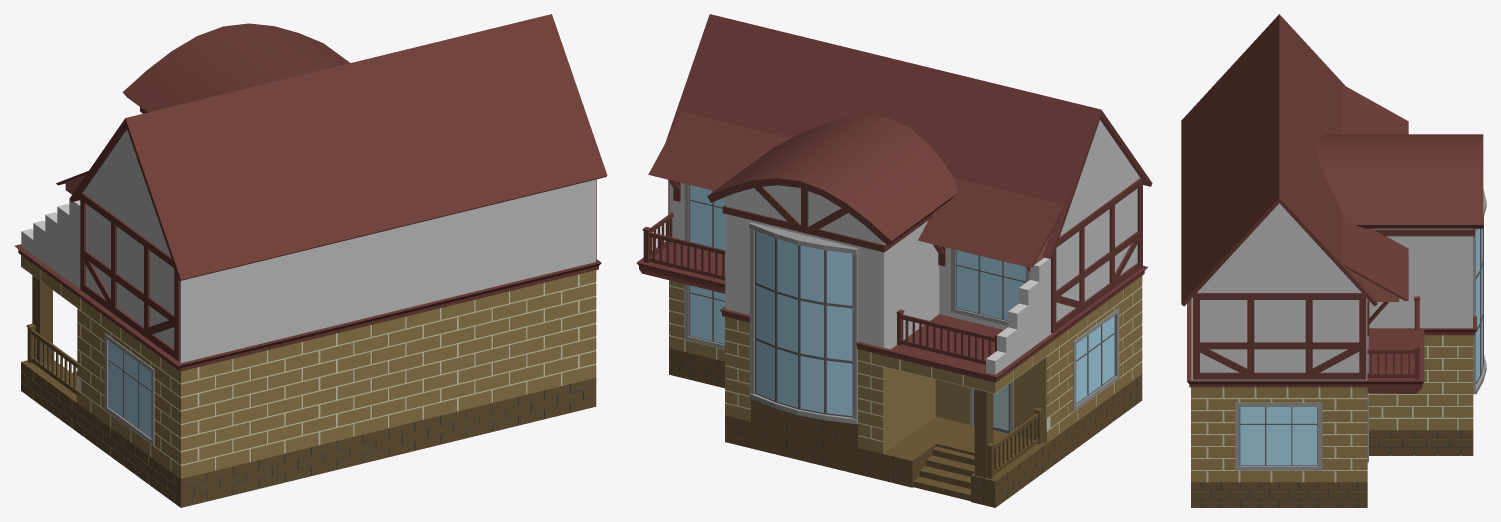
The model's file is house6-transformed.glb.
3 views of the same model, side by side, from view 1: azimuth 30°, elevation 25°; view 2: azimuth 150°, elevation 25°; view 3: azimuth 270°, elevation 25° (orthographic). The views are drawn at different scales.
Visible parts, largest first — view 1: building.054; view 2: building.054; view 3: building.054.
Part boxes in pixels (box(x1,y1,x2,y2)): building.054: box(14, 14, 607, 507); building.054: box(636, 14, 1152, 507); building.054: box(1181, 14, 1486, 507).
Bounding box in the file's own units: 12.34 × 9.8 × 8.68.
Materials: 1 (1 with a texture image).
